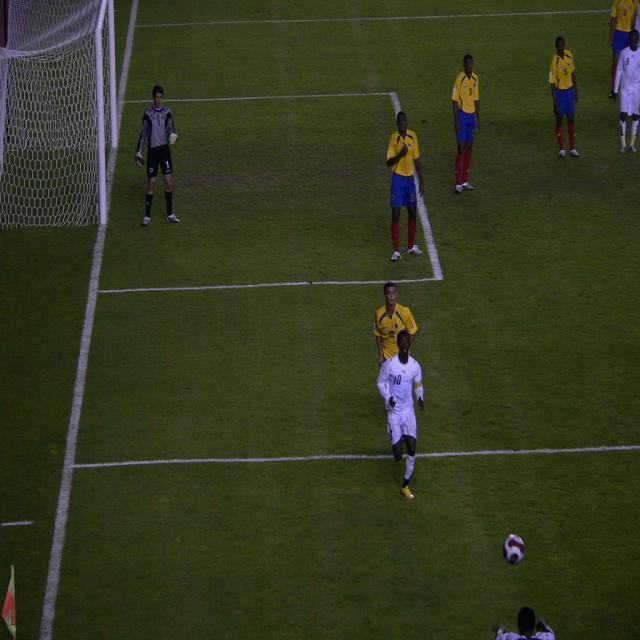ball: (505, 531, 526, 563)
